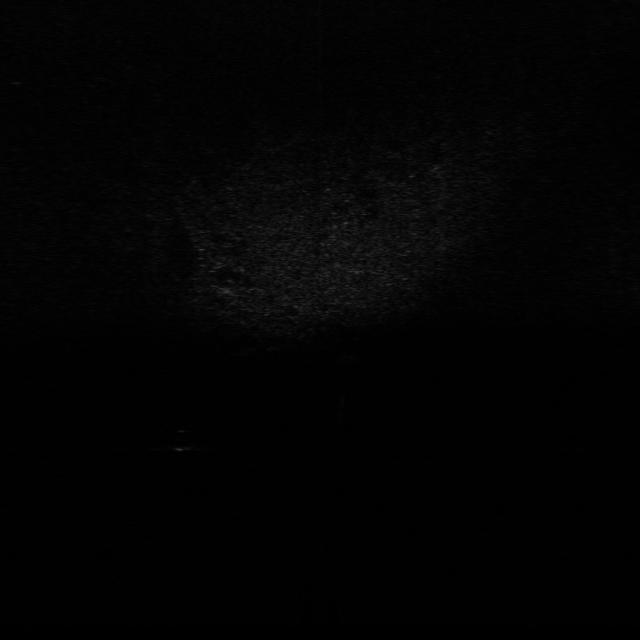ball: (166, 425, 200, 452)
cube: (337, 348, 363, 367)
